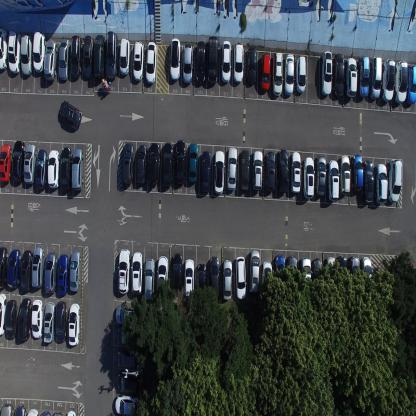car: (381, 59, 396, 102), (388, 158, 402, 204), (59, 100, 82, 128), (394, 59, 408, 104), (106, 28, 118, 79), (374, 162, 388, 205), (31, 245, 45, 288), (7, 247, 21, 289), (156, 255, 169, 300), (320, 51, 333, 96), (44, 249, 57, 294), (118, 246, 130, 294), (114, 394, 140, 416), (19, 248, 32, 292), (17, 297, 30, 341), (199, 150, 212, 193), (369, 56, 382, 99), (71, 148, 84, 191), (277, 148, 289, 194), (290, 150, 302, 196), (271, 51, 283, 97), (93, 33, 105, 79), (207, 35, 218, 85), (115, 304, 140, 326), (357, 56, 370, 98), (44, 38, 57, 80), (33, 30, 46, 72), (213, 149, 225, 194), (116, 326, 143, 346), (145, 40, 157, 85), (8, 29, 20, 74), (68, 301, 80, 346), (344, 57, 357, 98), (208, 255, 220, 299), (274, 254, 286, 298), (302, 156, 314, 200), (169, 37, 181, 81), (47, 148, 60, 188), (162, 141, 173, 188), (327, 159, 339, 202), (20, 34, 32, 77), (12, 139, 24, 182), (174, 139, 185, 185), (135, 143, 147, 185), (117, 349, 141, 370), (300, 256, 312, 298), (23, 142, 35, 184), (69, 250, 81, 292), (55, 300, 67, 342), (116, 372, 141, 392), (122, 141, 133, 186), (149, 141, 160, 186), (333, 52, 344, 97), (58, 37, 69, 82), (351, 153, 364, 191), (264, 151, 276, 192), (312, 258, 324, 299), (339, 154, 351, 195), (132, 40, 144, 81), (35, 147, 47, 188), (57, 254, 69, 295), (31, 298, 43, 339), (5, 298, 17, 339), (226, 146, 237, 190), (235, 256, 246, 300), (131, 252, 142, 296), (82, 34, 93, 78), (60, 146, 71, 190), (286, 255, 298, 295), (0, 143, 12, 183), (261, 261, 272, 304), (233, 41, 244, 84), (348, 254, 360, 293), (252, 150, 263, 192), (70, 35, 81, 77), (44, 300, 55, 342), (118, 37, 130, 75), (188, 143, 199, 184), (182, 43, 193, 84), (250, 249, 260, 294), (144, 257, 154, 302), (172, 252, 182, 297), (364, 159, 374, 204), (336, 254, 348, 291), (361, 255, 372, 295), (315, 154, 325, 198), (284, 52, 294, 96), (260, 52, 271, 92), (196, 41, 206, 84), (295, 54, 306, 93), (239, 149, 249, 191), (197, 264, 207, 306), (325, 256, 336, 294), (222, 259, 232, 300), (246, 45, 256, 86), (184, 258, 194, 298), (221, 39, 230, 83), (406, 65, 416, 104), (0, 245, 8, 289), (0, 28, 8, 71), (0, 293, 7, 338), (0, 402, 14, 415), (14, 403, 26, 415), (27, 407, 39, 415), (40, 408, 51, 416), (66, 408, 76, 416), (52, 410, 63, 416)
